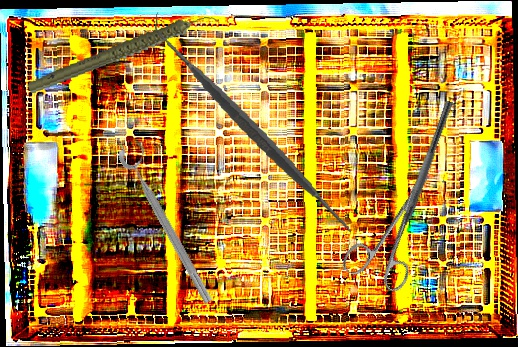Chopper: (386, 96, 453, 248)
Fixation Ring: (115, 139, 226, 307)
Handpiece: (21, 12, 226, 96)
Iris Scissors: (338, 159, 457, 299)
Spatula Surgical: (134, 11, 372, 248)
